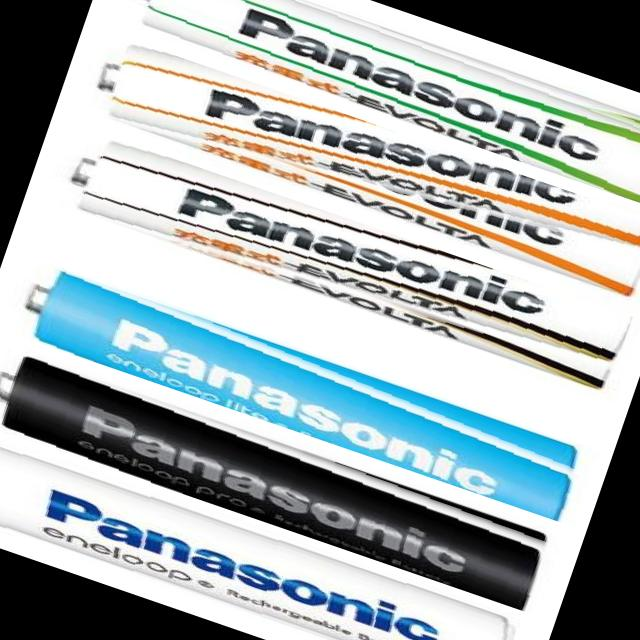Hazard: (46, 123, 633, 398), (9, 251, 591, 522), (0, 335, 559, 612), (79, 30, 640, 305), (0, 425, 525, 640), (112, 0, 640, 211)
